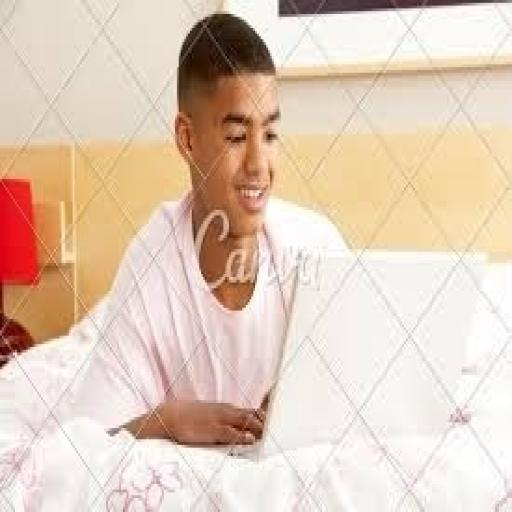using_laptop: (173, 215, 512, 512)
